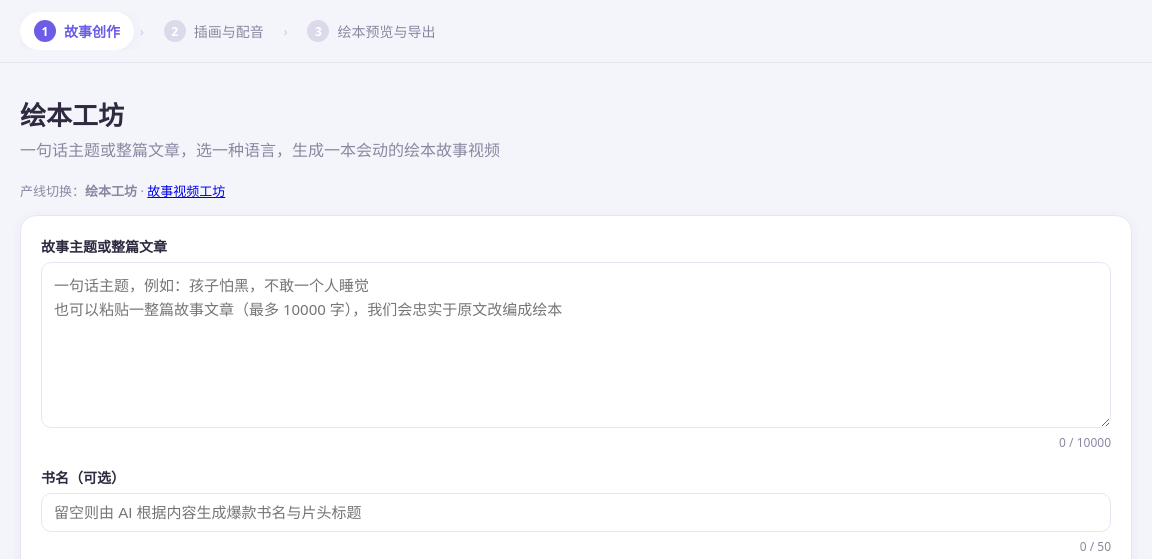
Test: CreatePage › shows a moderation message when the API rejects input
The image size is (1152, 559).
Type "坏主题" into the text box labelled "故事主题或整篇文章" at (576,345), box [41,262,1111,428]
(page scrolled)
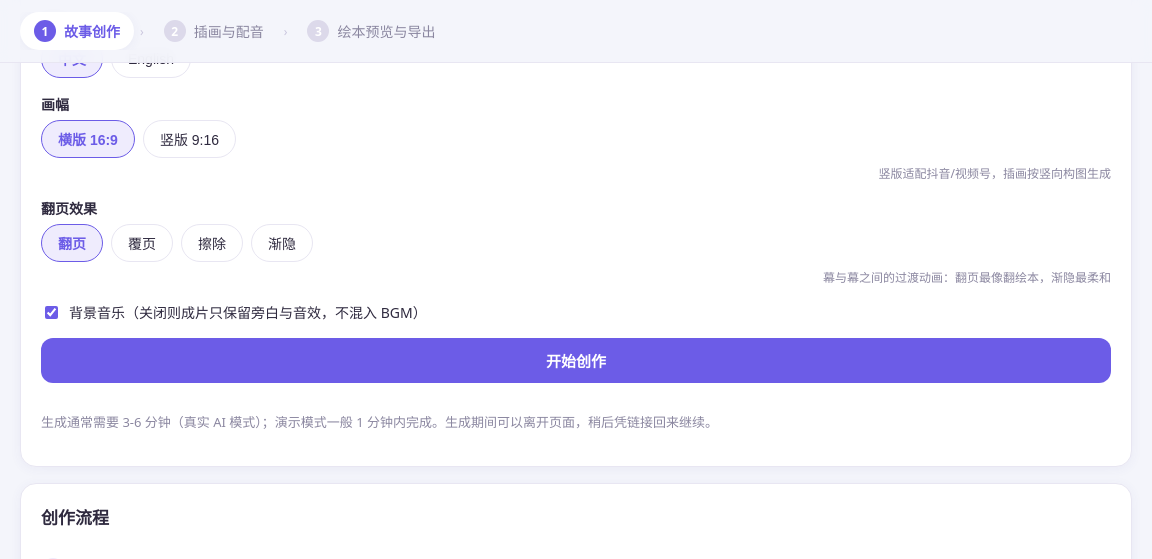
Click the button "开始创作" at (576,361), box [41,338,1111,383]
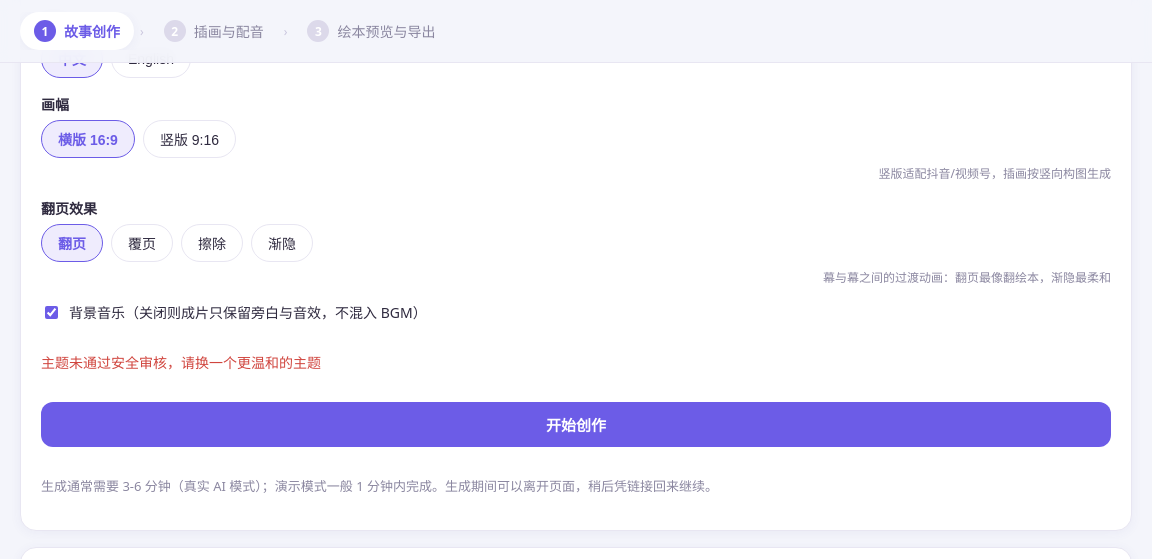
Now the text "主题未通过安全审核，请换一个更温和的主题" is shown, box [41,353,321,372]
